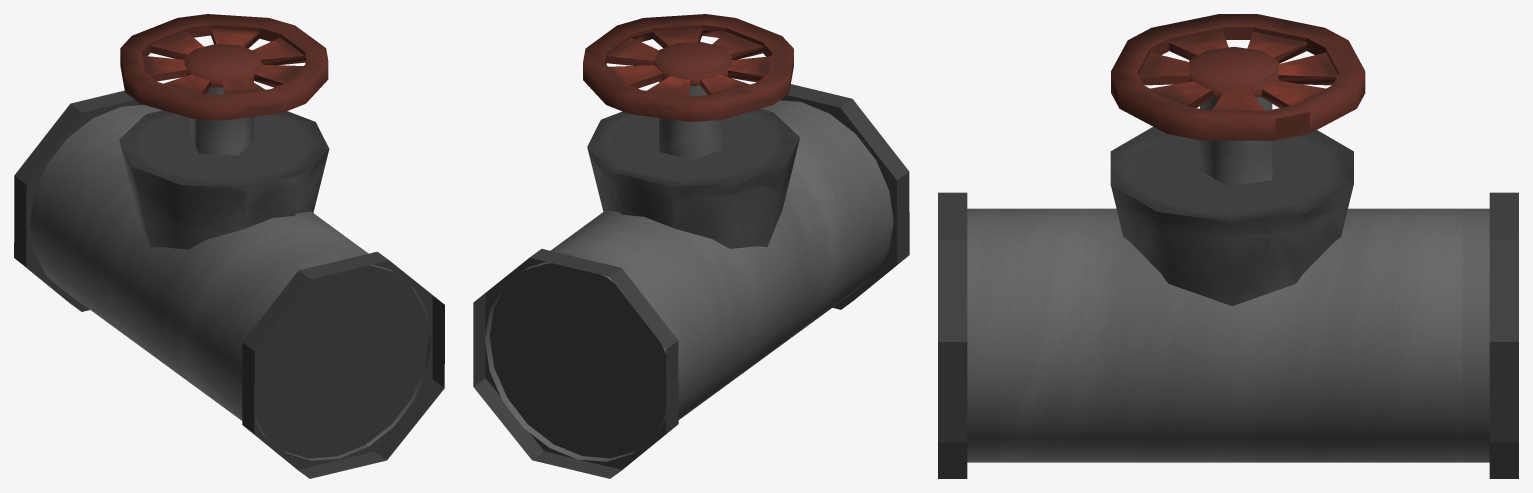
Rendered from pipe valve.fbx.
The picture shows the model from 3 angles, left to right: view 1: azimuth 30°, elevation 25°; view 2: azimuth 150°, elevation 25°; view 3: azimuth 270°, elevation 25°; orthographic projection. The views are drawn at different scales.
Visible parts, largest first — view 1: valve; view 2: valve; view 3: valve.
Boxes of the visible parts, bbox=[...] form: valve: bbox=[14, 14, 444, 478]; valve: bbox=[473, 14, 909, 478]; valve: bbox=[938, 14, 1518, 478].
Size of the model in its own units: 32.94 by 53.06 by 71.92.
2 materials, 2 textured.
